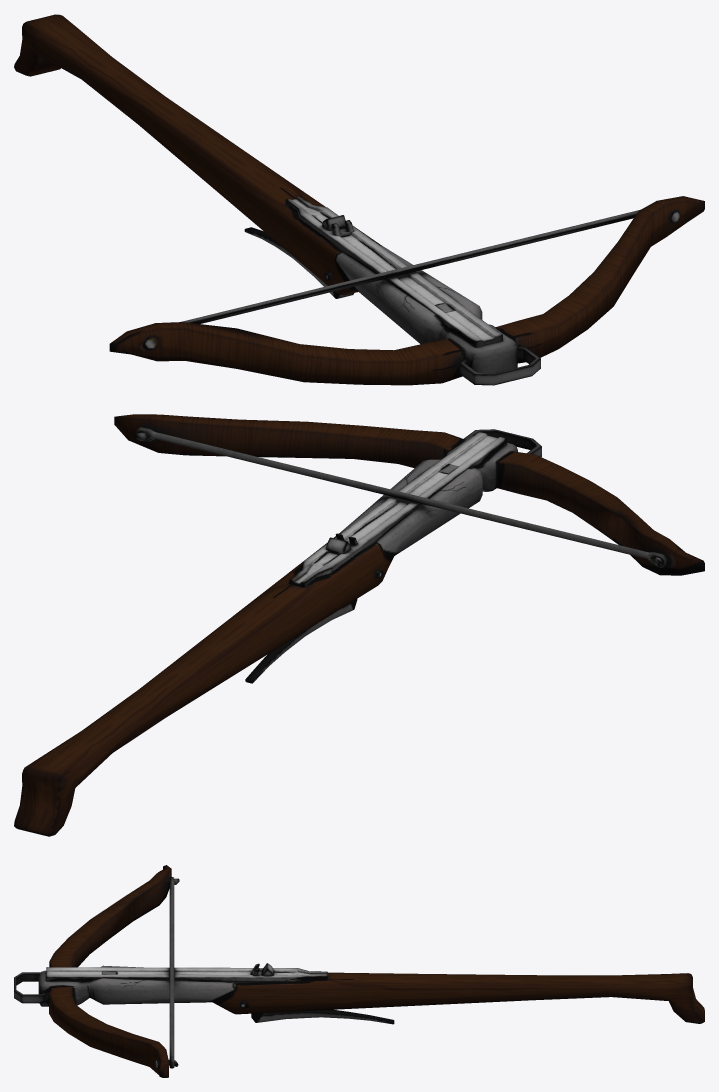
The model's file is crossbow(1).fbx.
3 views of the same model, one above another, from view 1: azimuth 30°, elevation 25°; view 2: azimuth 150°, elevation 25°; view 3: azimuth 270°, elevation 25° (orthographic). The views are drawn at different scales.
Parts seen in each view (by area): view 1: defaultMaterial.002, defaultMaterial.001, defaultMaterial; view 2: defaultMaterial.002, defaultMaterial.001, defaultMaterial; view 3: defaultMaterial.002, defaultMaterial.001, defaultMaterial.
Part boxes in pixels (bbox=[...]): defaultMaterial.002: bbox=[14, 14, 540, 385]; defaultMaterial.001: bbox=[109, 196, 704, 385]; defaultMaterial: bbox=[181, 209, 640, 323]; defaultMaterial.002: bbox=[14, 429, 541, 836]; defaultMaterial.001: bbox=[114, 414, 704, 575]; defaultMaterial: bbox=[136, 427, 667, 567]; defaultMaterial.002: bbox=[14, 963, 704, 1024]; defaultMaterial.001: bbox=[49, 865, 179, 1077]; defaultMaterial: bbox=[169, 877, 174, 1068].
Size of the model in its own units: 61.26 by 8.5 by 86.3.
Materials: 1 (1 with a texture image).
